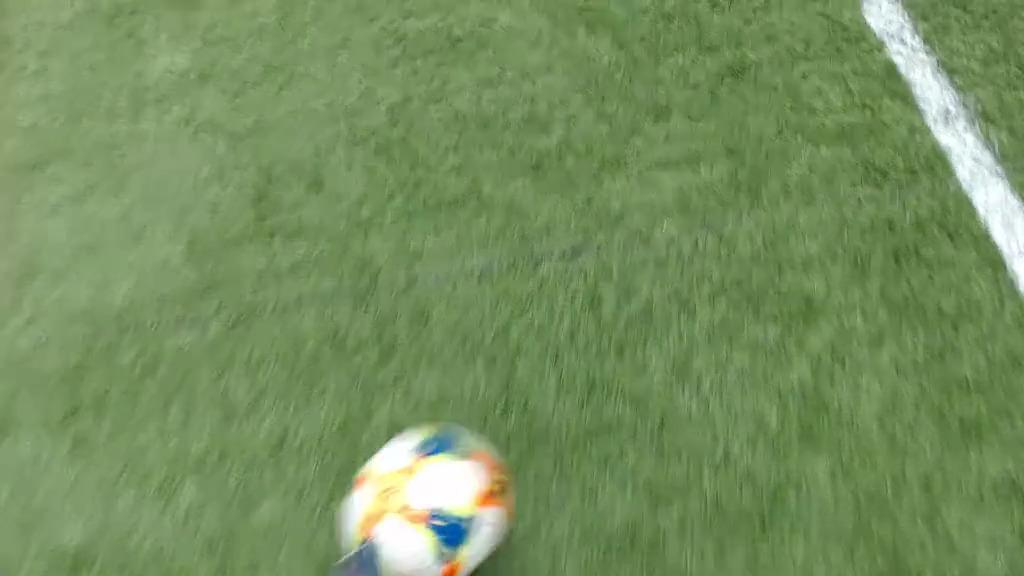ball: (337, 419, 513, 576)
